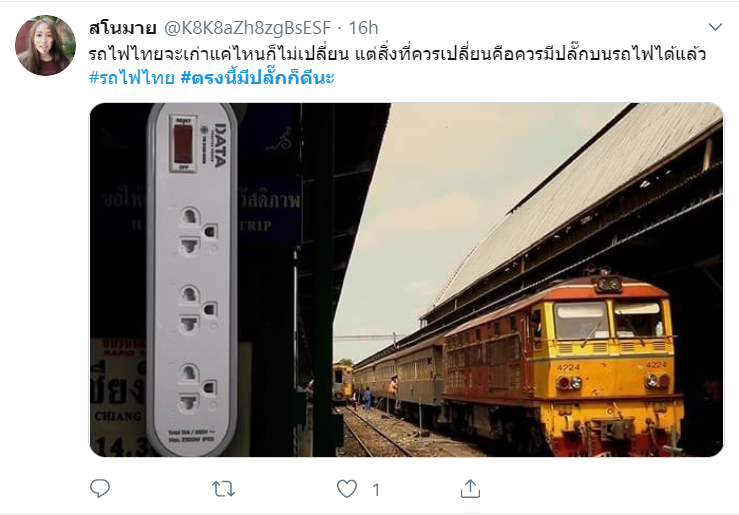Three_eye_plug: (134, 103, 243, 456)
